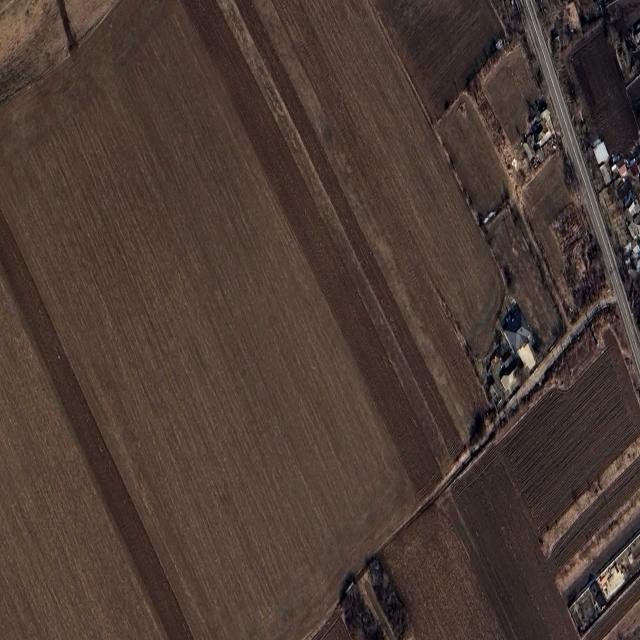bare-soil: (0, 0, 377, 639), (283, 1, 640, 639), (533, 0, 640, 147)
building: (390, 0, 640, 542), (580, 133, 640, 289), (568, 529, 640, 635), (508, 101, 558, 182), (602, 3, 640, 93)
tree: (340, 571, 412, 639)
